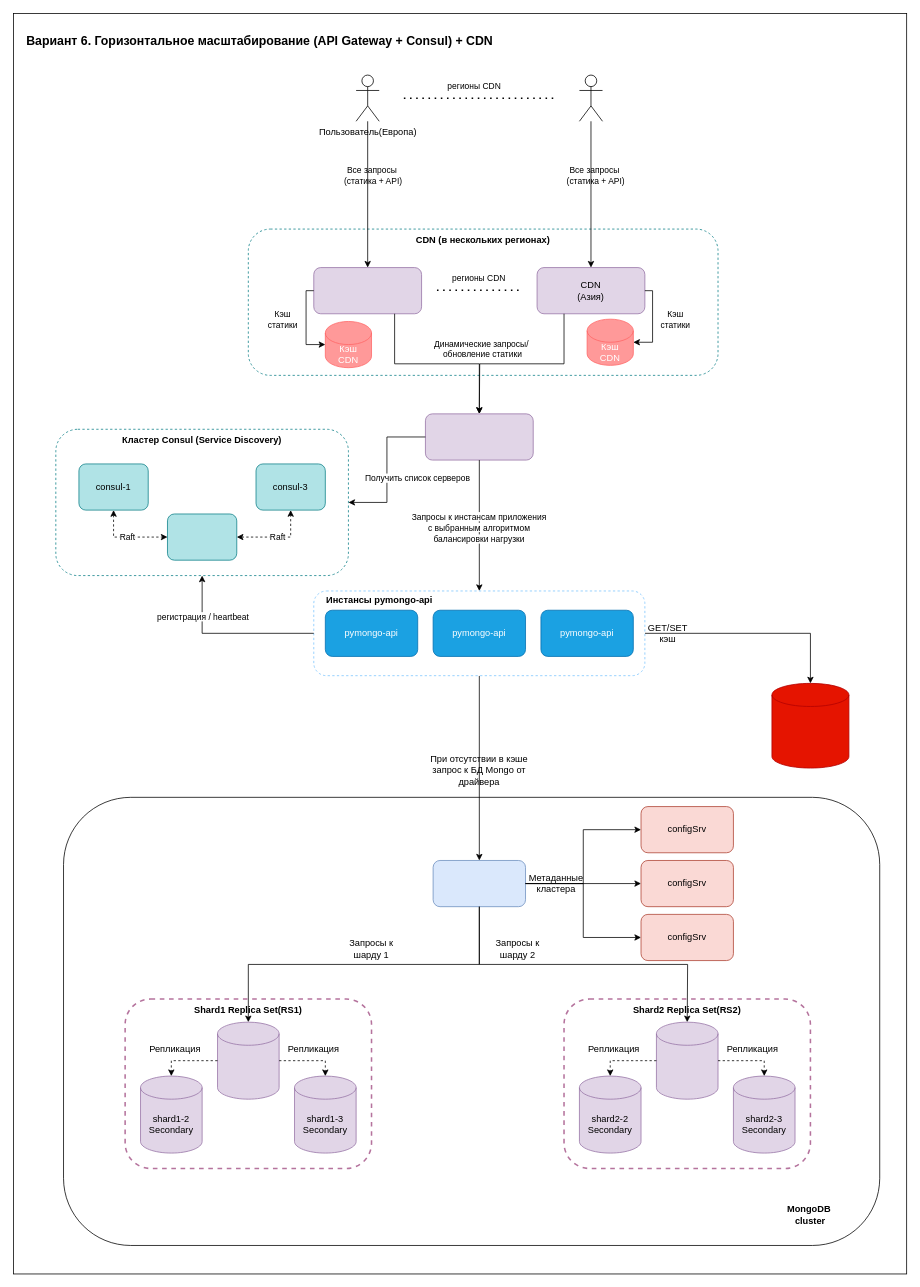
This 920x1287 diagram has some shape labels left out. The shapes that lost their labels are listed below. From the top down, each one's centre as x and y in pixels, then its label:
At point (591, 97): "Пользователь(Азия)".
At point (367, 290): "CDN (Европа)".
At point (479, 436): "API Gateway (балансировка)".
At point (202, 536): "consul-2".
At point (810, 725): "Кэш (Redis)".
At point (479, 883): "mongos_router".
At point (248, 1060): "shard1-1 Primary".
At point (687, 1060): "shard2-1 Primary".
